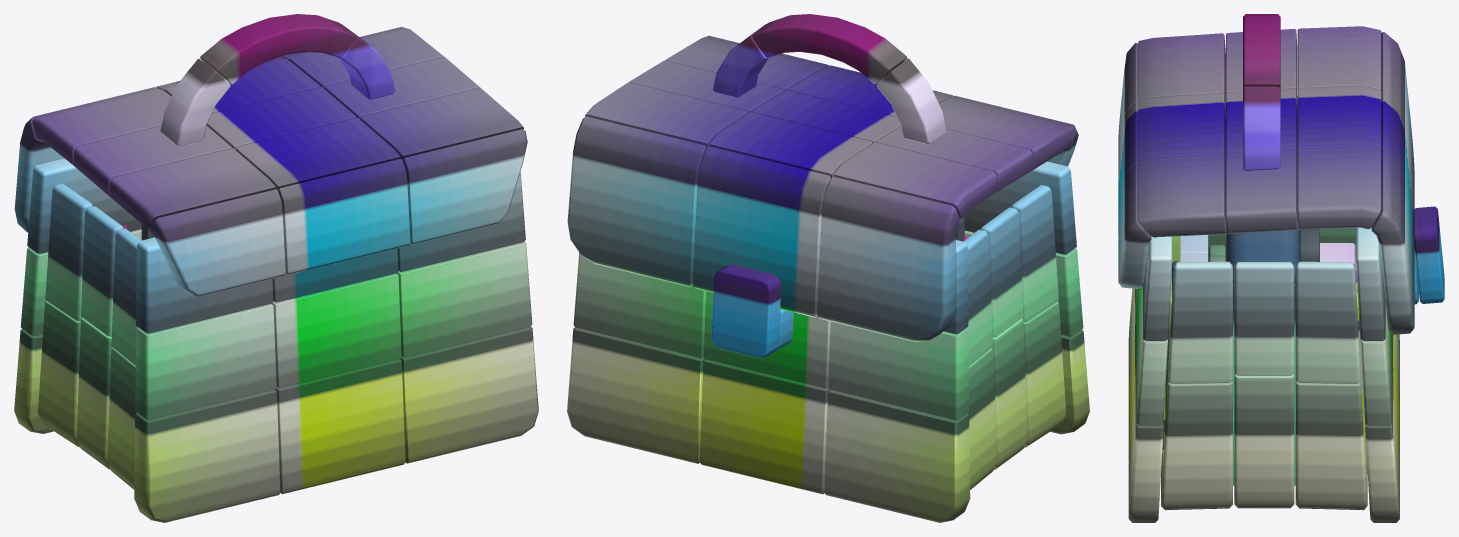
The model's file is level_152.fbx.
The picture shows the model from 3 angles, left to right: view 1: azimuth 30°, elevation 25°; view 2: azimuth 150°, elevation 25°; view 3: azimuth 270°, elevation 25°; orthographic projection.
Parts seen in each view (by area): view 1: Cube_L2_5.001, Cube_L2_3.001, Cube_L2_11.001, Cube_L2_15.001, Cube_L2_20.001, Cube_L1_13.001, Cube_L2_21.001, Cube_L1_16.001, Cube_L1_3.001, Cube_L1_14.001, Cube_L1_8.001, Cube_L1_10.001 (+22 smaller); view 2: Cube_L1_15.001, Cube_L1_2.001, Cube_L1_4.001, Cube_L2_2.001, Cube_L2_4.001, Cube_L2_10.001, Cube_L2_23.001, Cube_L2_14.001, Cube_L1_7.001, Cube_L1_19.001, Cube_L1_18.001, Cube_L1_11.001 (+20 smaller); view 3: Cube_L2_6.001, Cube_L2_17.001, Cube_L2_30, Cube_L2.001, Cube_L2_9.001, Cube_L2_25, Cube_L1_10.001, Cube_L1_9.001, Cube_L1_8.001, Cube_L1_14.001, Cube_L1_11.001, Cube_L1_12.001 (+28 smaller).
Part boxes in pixels (x1=…): Cube_L2_5.001: x1=134, y1=389, x2=280, y2=522; Cube_L2_3.001: x1=400, y1=327, x2=538, y2=463; Cube_L2_11.001: x1=275, y1=359, x2=405, y2=494; Cube_L2_15.001: x1=135, y1=304, x2=276, y2=419; Cube_L2_20.001: x1=396, y1=242, x2=532, y2=357; Cube_L1_13.001: x1=278, y1=158, x2=410, y2=275; Cube_L2_21.001: x1=271, y1=273, x2=401, y2=388; Cube_L1_16.001: x1=149, y1=189, x2=285, y2=297; Cube_L1_3.001: x1=403, y1=129, x2=527, y2=244; Cube_L1_14.001: x1=109, y1=148, x2=275, y2=228; Cube_L1_8.001: x1=235, y1=118, x2=400, y2=190; Cube_L1_10.001: x1=360, y1=88, x2=523, y2=160; Cube_L1_15.001: x1=817, y1=176, x2=960, y2=342; Cube_L1_2.001: x1=567, y1=116, x2=706, y2=287; Cube_L1_4.001: x1=692, y1=146, x2=830, y2=317; Cube_L2_2.001: x1=824, y1=390, x2=970, y2=522; Cube_L2_4.001: x1=567, y1=327, x2=705, y2=463; Cube_L2_10.001: x1=699, y1=359, x2=829, y2=494; Cube_L2_23.001: x1=828, y1=321, x2=969, y2=420; Cube_L2_14.001: x1=573, y1=252, x2=705, y2=358; Cube_L1_7.001: x1=833, y1=142, x2=997, y2=218; Cube_L1_19.001: x1=752, y1=14, x2=906, y2=83; Cube_L1_18.001: x1=711, y1=264, x2=781, y2=358; Cube_L1_11.001: x1=709, y1=112, x2=872, y2=178; Cube_L2_6.001: x1=1295, y1=381, x2=1367, y2=508; Cube_L2_17.001: x1=1161, y1=381, x2=1232, y2=508; Cube_L2_30: x1=1234, y1=374, x2=1294, y2=507; Cube_L2.001: x1=1295, y1=261, x2=1360, y2=383; Cube_L2_9.001: x1=1168, y1=261, x2=1232, y2=383; Cube_L2_25: x1=1234, y1=262, x2=1294, y2=375; Cube_L1_10.001: x1=1138, y1=154, x2=1225, y2=237; Cube_L1_9.001: x1=1297, y1=146, x2=1381, y2=229; Cube_L1_8.001: x1=1138, y1=93, x2=1225, y2=170; Cube_L1_14.001: x1=1138, y1=33, x2=1225, y2=109; Cube_L1_11.001: x1=1297, y1=86, x2=1381, y2=150; Cube_L1_12.001: x1=1225, y1=149, x2=1297, y2=233.
Size of the model in its own units: 10.6 by 10.51 by 7.62.
